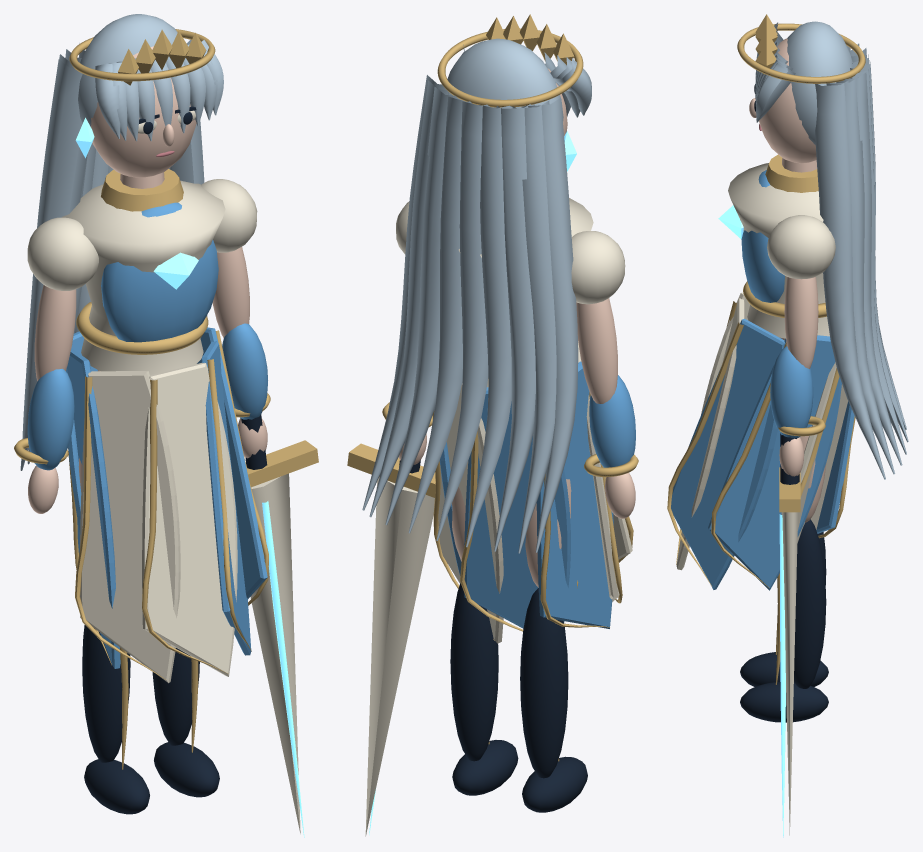
File: mage.glb
The picture shows the model from 3 angles, left to right: view 1: azimuth 30°, elevation 25°; view 2: azimuth 150°, elevation 25°; view 3: azimuth 270°, elevation 25°; orthographic projection. The views are drawn at different scales.
Visible parts, largest first — view 1: node_64, node_76, node_3, node_4, node_61, node_30, node_10, node_80, node_66, node_47, node_74, node_68 (+33 smaller); view 2: node_61, node_32, node_74, node_33, node_30, node_31, node_34, node_72, node_35, node_36, node_80, node_86 (+24 smaller); view 3: node_66, node_38, node_68, node_3, node_37, node_86, node_11, node_53, node_36, node_55, node_61, node_10 (+21 smaller).
Boxes of the visible parts, x1,y1,x2,y2 form: node_64: [142, 362, 237, 676]; node_76: [80, 371, 180, 683]; node_3: [61, 180, 225, 375]; node_4: [101, 202, 218, 342]; node_61: [250, 473, 300, 833]; node_30: [20, 59, 87, 470]; node_10: [91, 46, 196, 177]; node_80: [82, 625, 130, 762]; node_66: [201, 341, 251, 655]; node_47: [27, 217, 98, 290]; node_74: [67, 348, 120, 668]; node_68: [197, 327, 267, 599]; node_61: [365, 477, 434, 836]; node_32: [494, 104, 535, 551]; node_74: [536, 361, 613, 628]; node_33: [466, 105, 512, 547]; node_30: [521, 98, 578, 552]; node_31: [512, 100, 556, 553]; node_34: [436, 101, 493, 540]; node_72: [464, 387, 570, 628]; node_35: [408, 92, 471, 533]; node_36: [385, 86, 463, 525]; node_80: [520, 588, 568, 778]; node_86: [450, 583, 498, 761]; node_66: [671, 318, 785, 589]; node_38: [815, 80, 885, 479]; node_68: [708, 335, 841, 590]; node_3: [728, 163, 829, 338]; node_37: [826, 77, 894, 474]; node_86: [794, 519, 826, 688]; node_11: [787, 21, 853, 144]; node_53: [767, 215, 835, 279]; node_36: [836, 72, 902, 465]; node_55: [770, 346, 813, 438]; node_61: [781, 512, 798, 835]; node_10: [759, 38, 816, 163].
Size of the model in its own units: 0.7611 by 2.15 by 0.6234.
